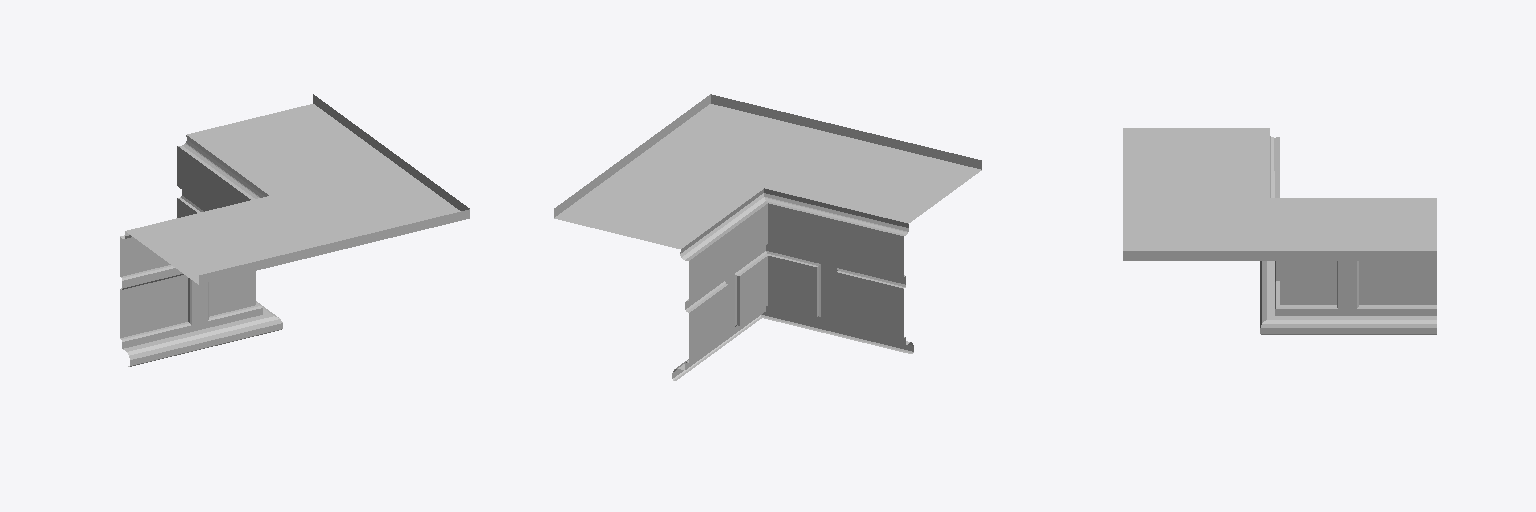
Rendered from mansion1_ceilingwall_convex.obj.
3 views of the same model, side by side, from view 1: azimuth 30°, elevation 25°; view 2: azimuth 150°, elevation 25°; view 3: azimuth 270°, elevation 25° (orthographic).
Visible parts, largest first — view 1: corner_convex_short; view 2: corner_convex_short; view 3: corner_convex_short.
Part boxes in pixels (x1,y1,x2,y2): corner_convex_short: (120,94,469,366); corner_convex_short: (554,94,981,380); corner_convex_short: (1123,128,1436,334).
Bounding box in the file's own units: 4 × 2 × 4.